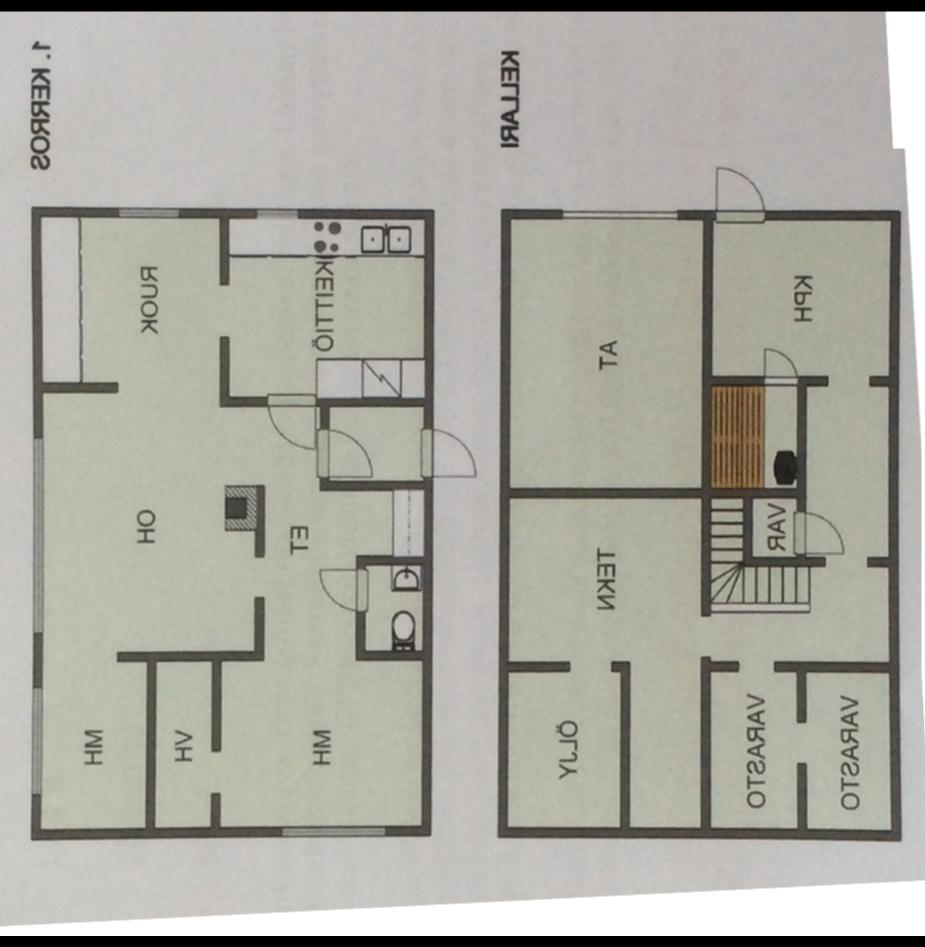door: (309, 424, 379, 482), (260, 388, 322, 451), (712, 161, 770, 226), (418, 427, 480, 484), (792, 508, 848, 564), (317, 564, 372, 613), (757, 343, 795, 389)
window: (26, 429, 47, 640), (272, 818, 396, 846), (548, 205, 684, 226), (27, 676, 47, 806), (251, 202, 309, 224), (108, 204, 186, 220)
